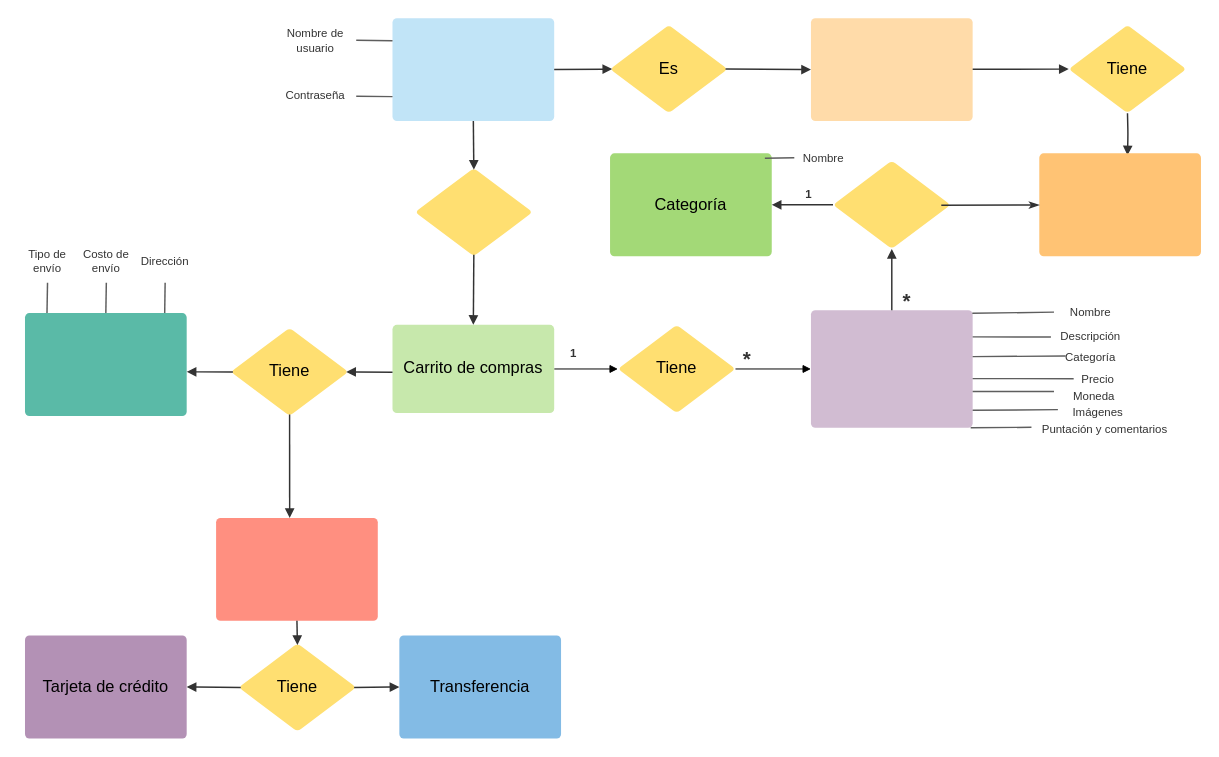
This 1219x757 diagram has some shape labels left out. Here are the shapes that lost their labels. From the top down, the box of each, then its label:
(391, 17, 555, 122): Usuario
(809, 17, 973, 122): Vendedor
(413, 167, 533, 257): Compró
(831, 159, 951, 250): Pertenece
(1038, 152, 1202, 257): Lista de artículos
(23, 312, 187, 417): Método de envío
(809, 309, 973, 428): Artículo
(215, 516, 378, 622): Forma de pago
